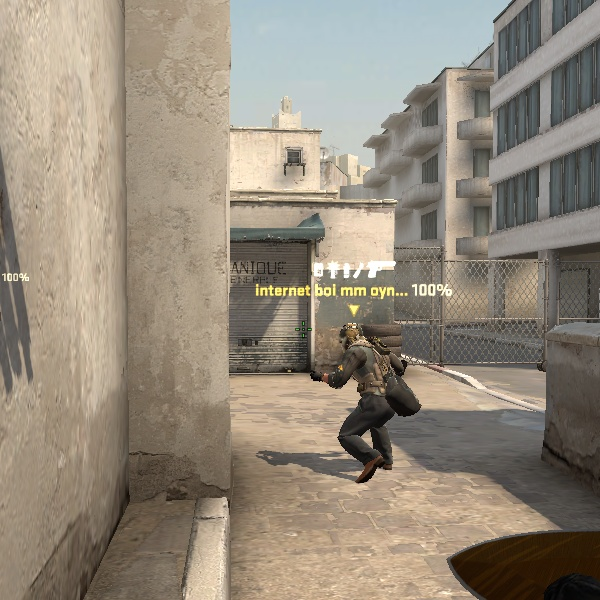t_body: (296, 317, 419, 485)
t_head: (334, 316, 379, 360)
